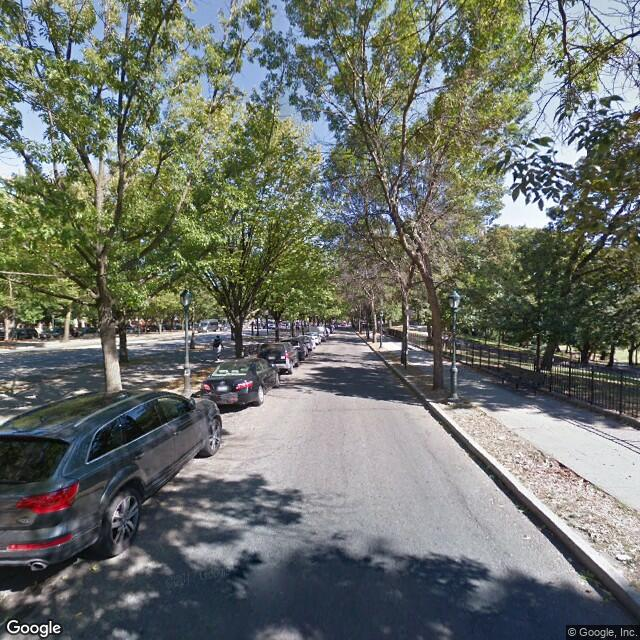litter: (520, 529, 538, 545)
